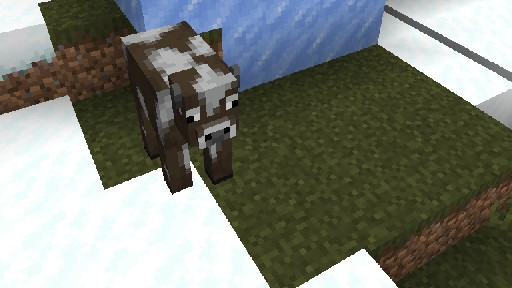cow: (119, 20, 240, 202)
